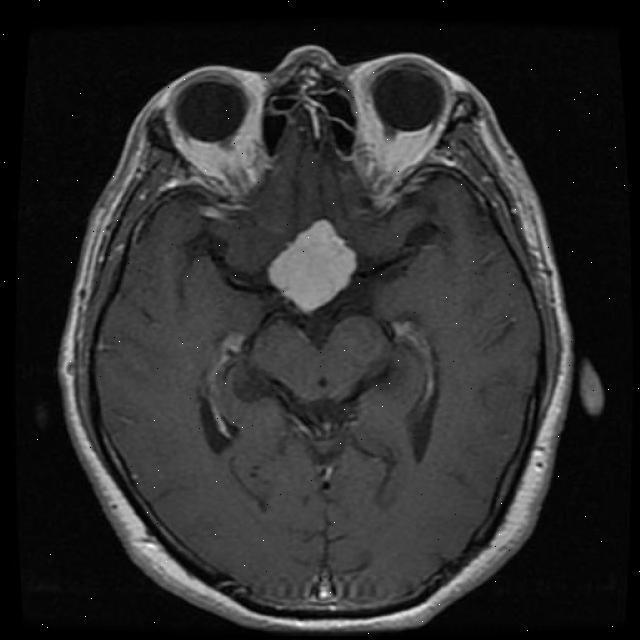Pituitary: (268, 220, 357, 312)
